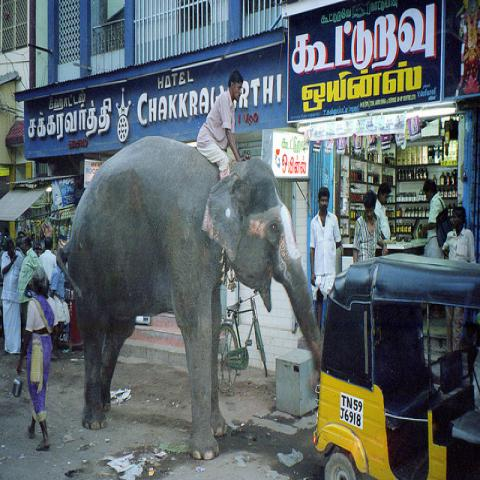car: (317, 256, 480, 474)
